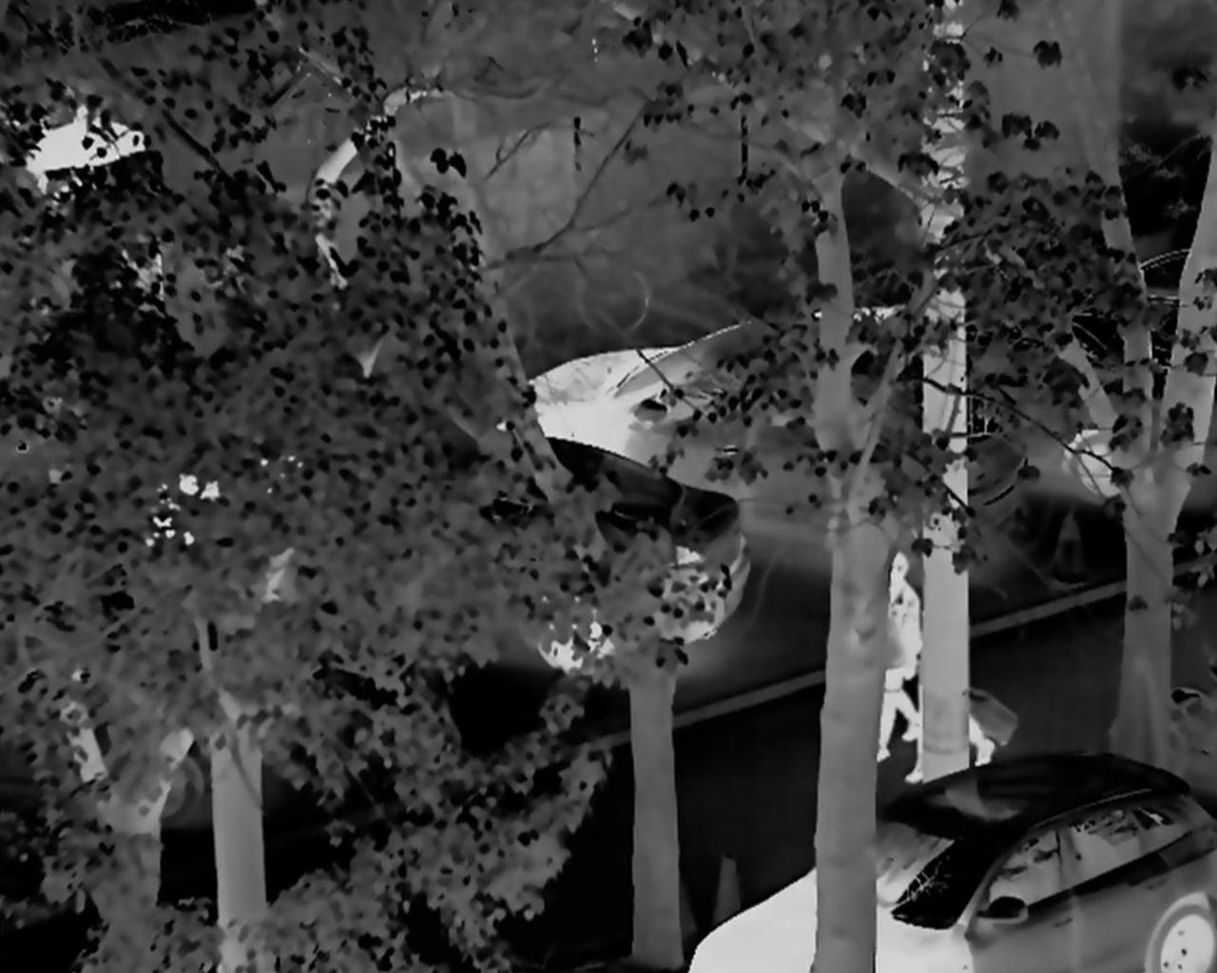person: (855, 545, 924, 755)
